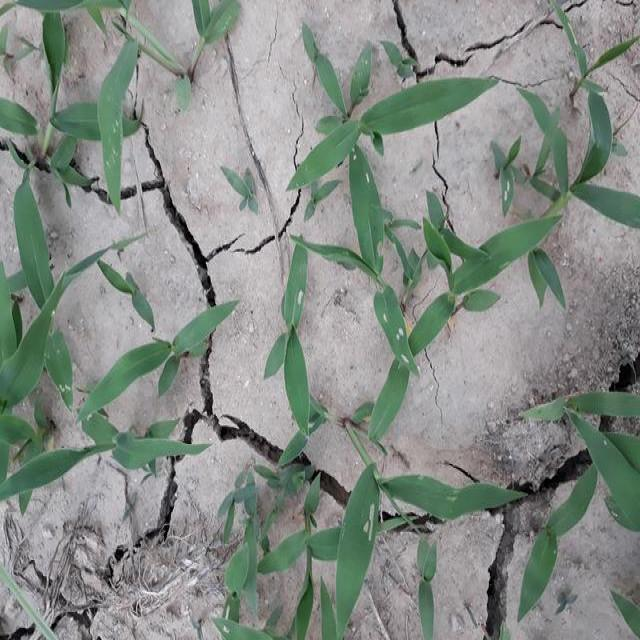weed: (0, 0, 212, 497), (230, 418, 640, 627), (290, 18, 505, 274), (412, 212, 568, 331), (524, 94, 640, 228), (362, 267, 426, 410), (524, 369, 640, 438), (272, 246, 316, 424), (546, 11, 640, 91), (510, 207, 567, 307), (482, 126, 530, 206), (222, 164, 256, 217), (208, 0, 240, 41)
